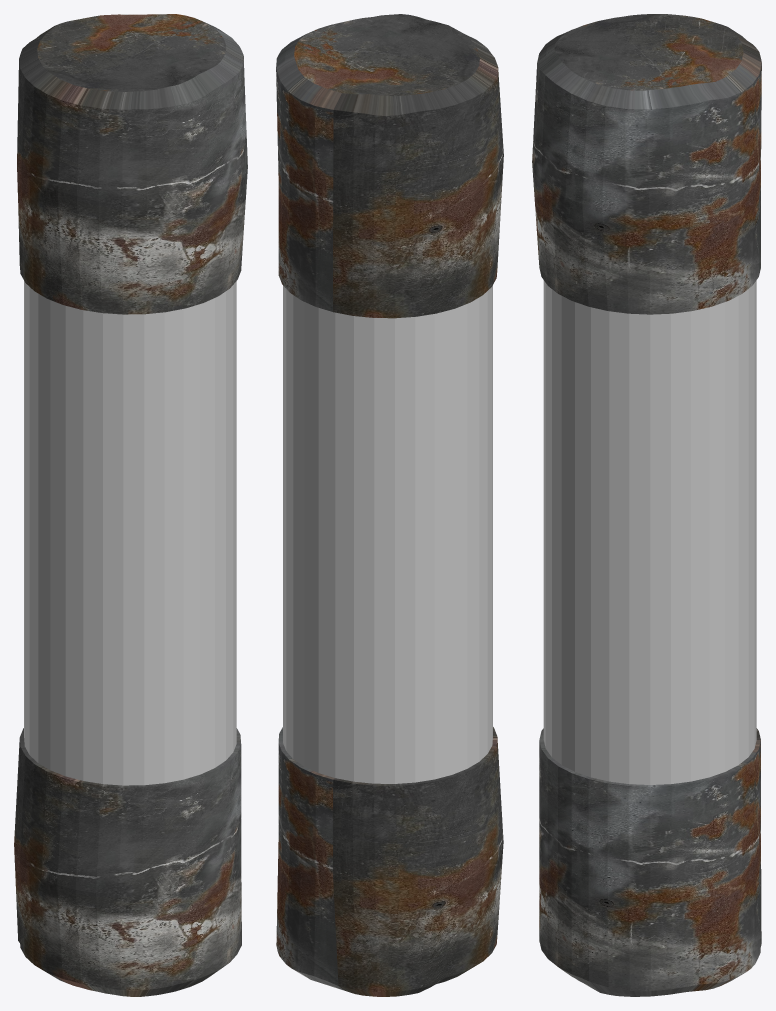
Rendered from PRP_Fuse.fbx.
3 renders of one model, left to right at view 1: azimuth 30°, elevation 25°; view 2: azimuth 150°, elevation 25°; view 3: azimuth 270°, elevation 25°, orthographic.
Visible parts, largest first — view 1: Cylinder; view 2: Cylinder; view 3: Cylinder.
Boxes of the visible parts, left/top/right/bottom form: Cylinder: left=14, top=14, right=247, bottom=996; Cylinder: left=276, top=14, right=503, bottom=996; Cylinder: left=532, top=14, right=761, bottom=996.
Bounding box in the file's own units: 0.1048 × 0.4544 × 0.1037.
Materials: 4 (2 with a texture image).
